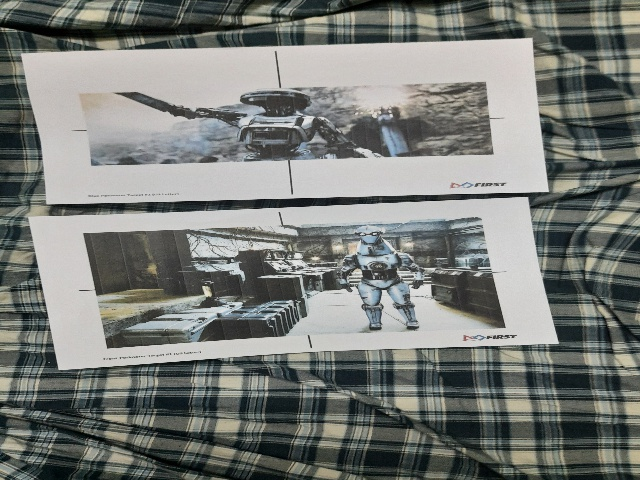bpt2: (22, 52, 552, 188)
fpt1: (50, 223, 560, 348)
